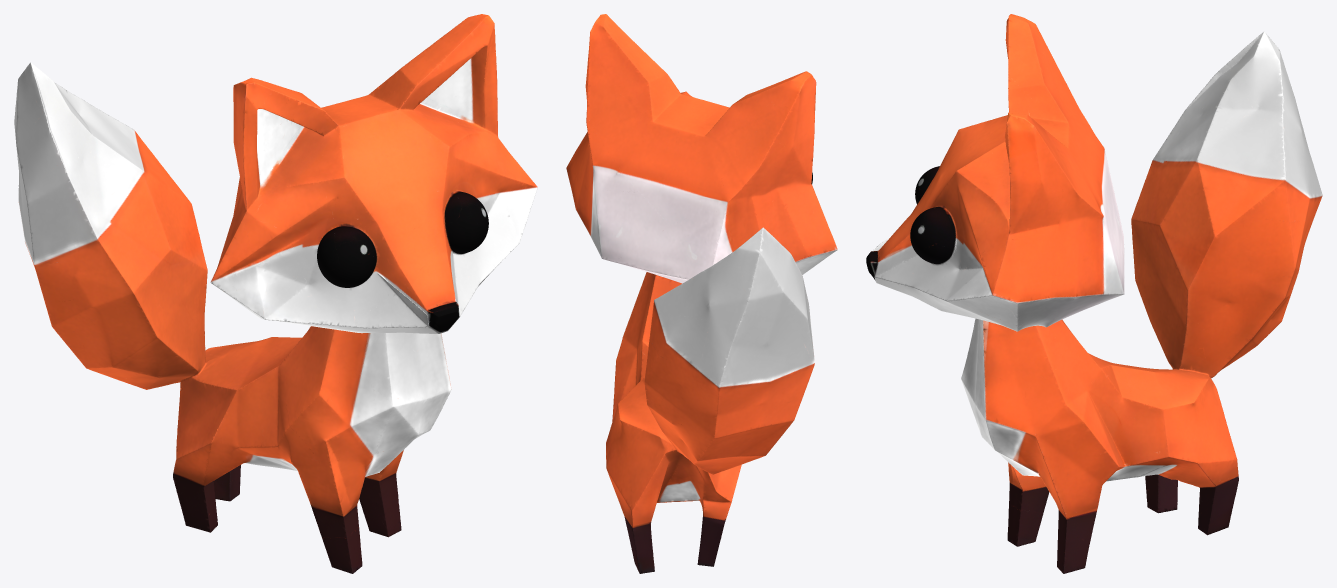
File: Meshy_AI_Low_Poly_Fox_0427075956_texture.glb
3 views of the same model, side by side, from view 1: azimuth 30°, elevation 25°; view 2: azimuth 150°, elevation 25°; view 3: azimuth 270°, elevation 25° (orthographic). The views are drawn at different scales.
Size of the model in its own units: 1.48 by 1.9 by 1.61.
1 material, 1 textured.
